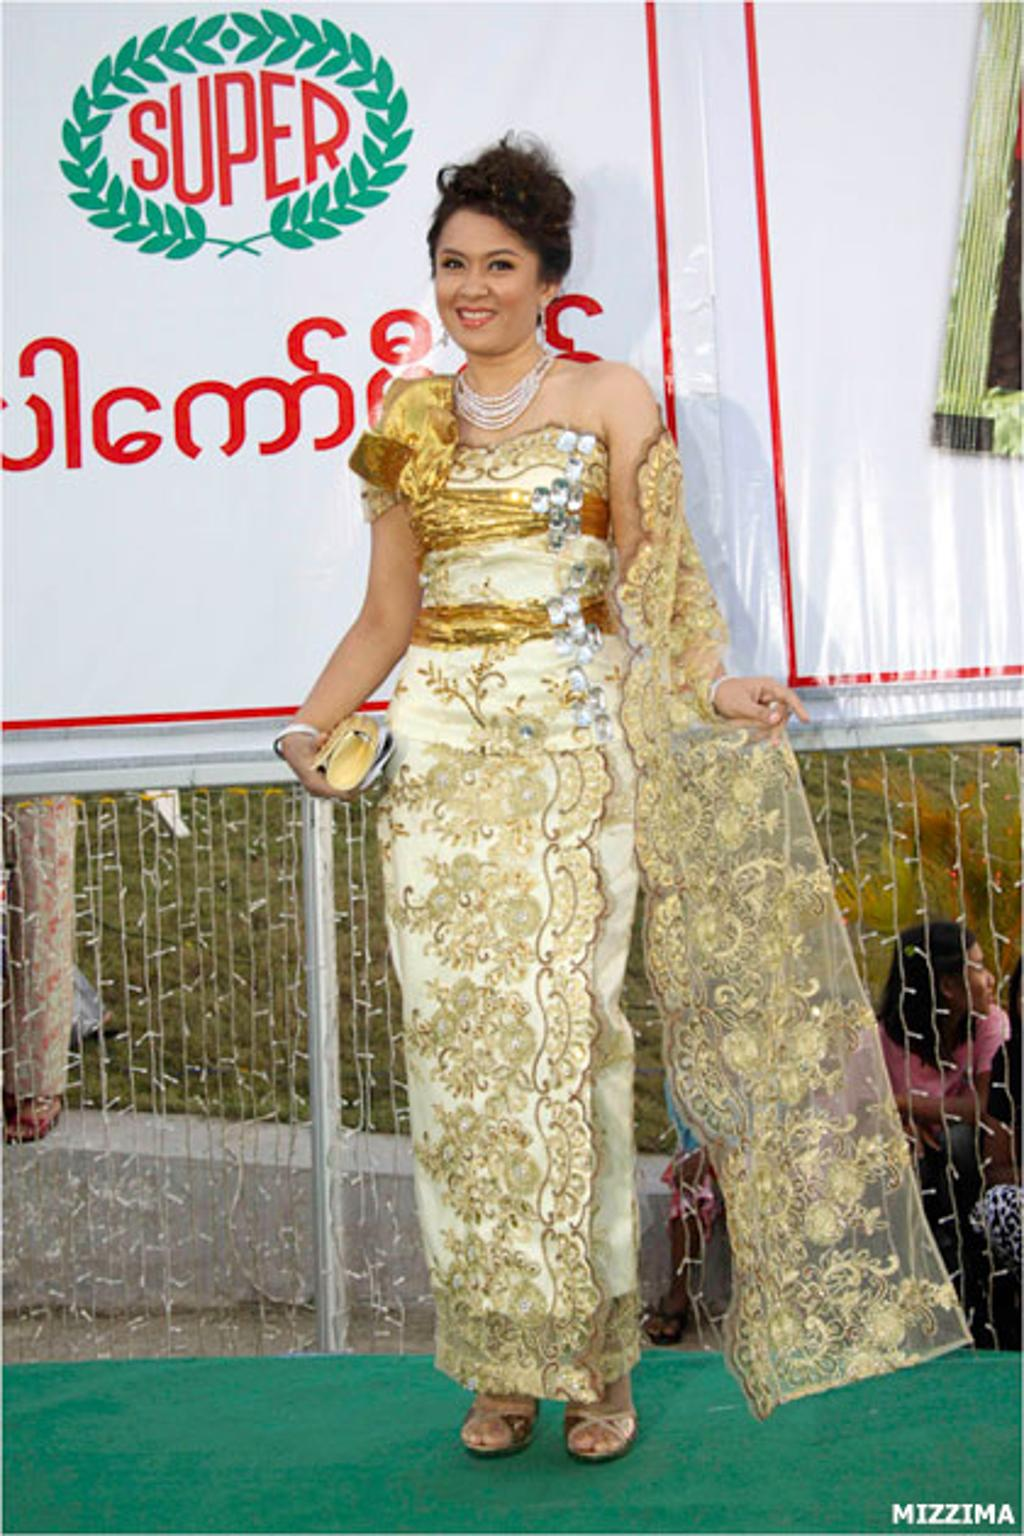face: (435, 207, 537, 354)
